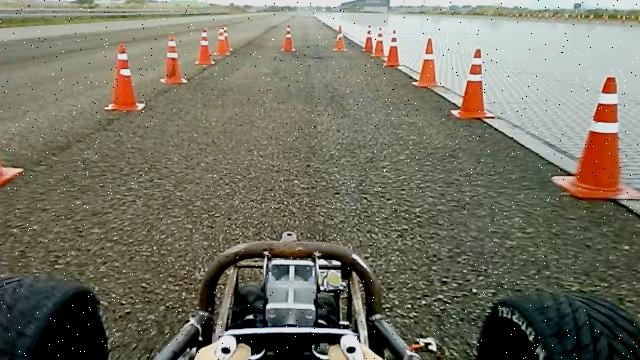red cone: (551, 75, 640, 200), (450, 47, 496, 120), (0, 68, 24, 190), (104, 43, 146, 112), (411, 37, 444, 88), (160, 33, 188, 85), (195, 28, 215, 66), (383, 29, 403, 67)
